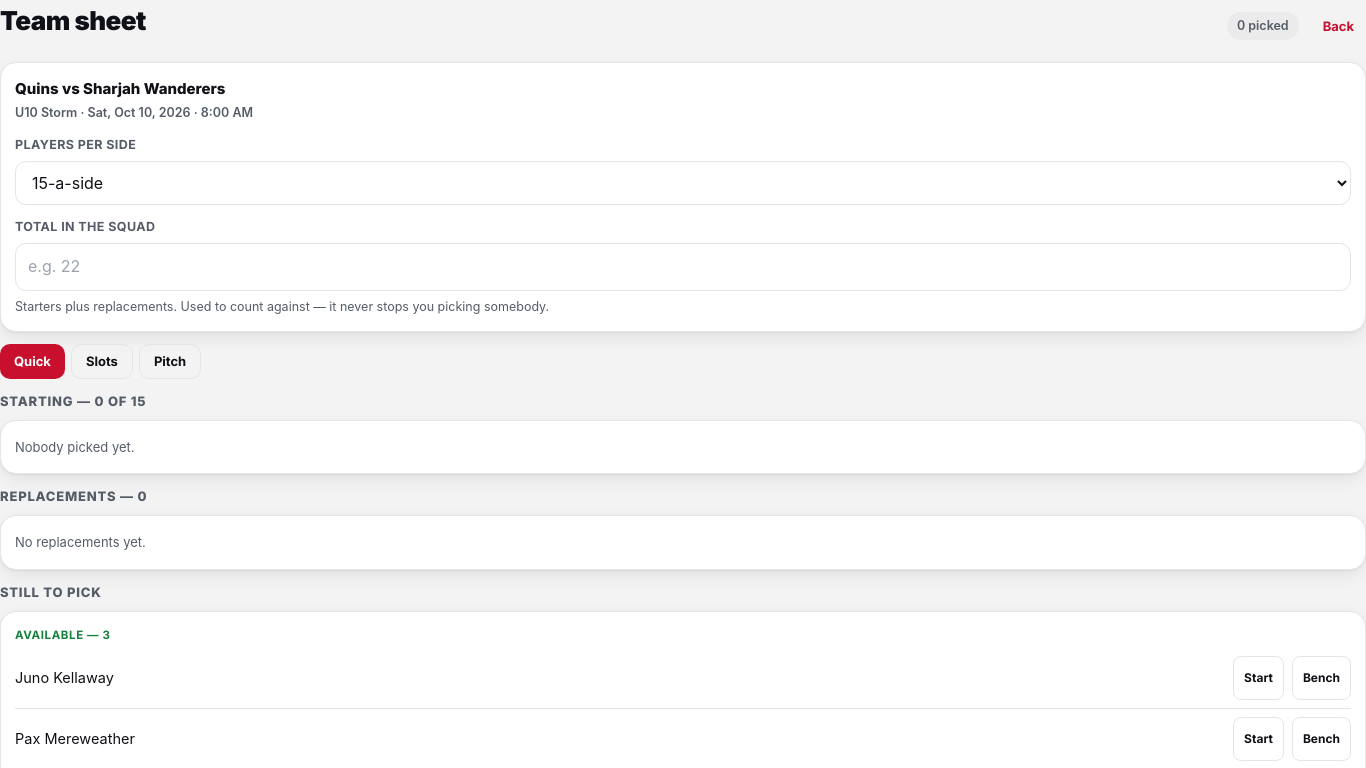
the sheet style (phase 2) › offers the toggle only when a format is chosen
This screenshot has width=1366, height=768.
Expected: the button "Quick" is shown, [0,344,65,379]
Select "Not set" in the dropdown labelled "Players per side". click: point(683, 183)
box: [15,161,1351,205]
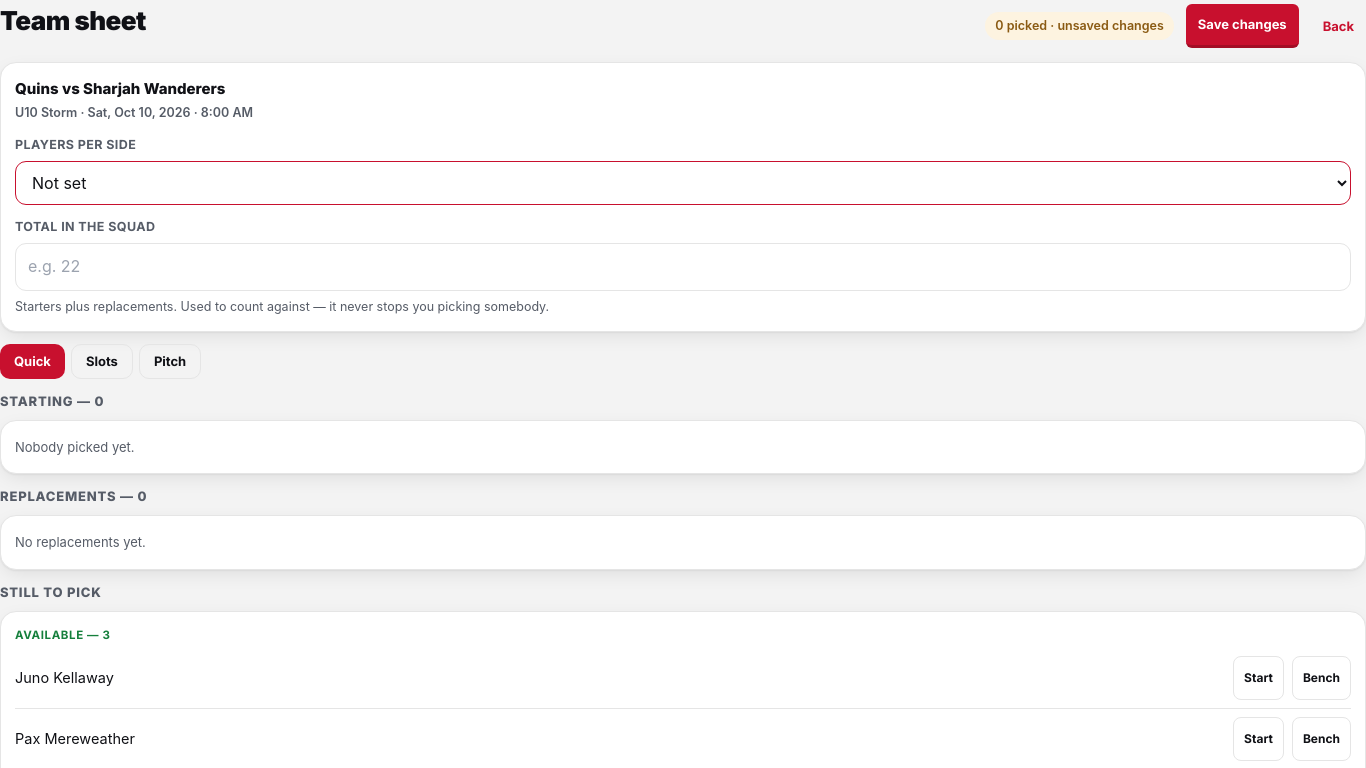
Select "7-a-side" in the dropdown labelled "Players per side". click: point(683, 183)
box: [15,161,1351,205]
(page scrolled)
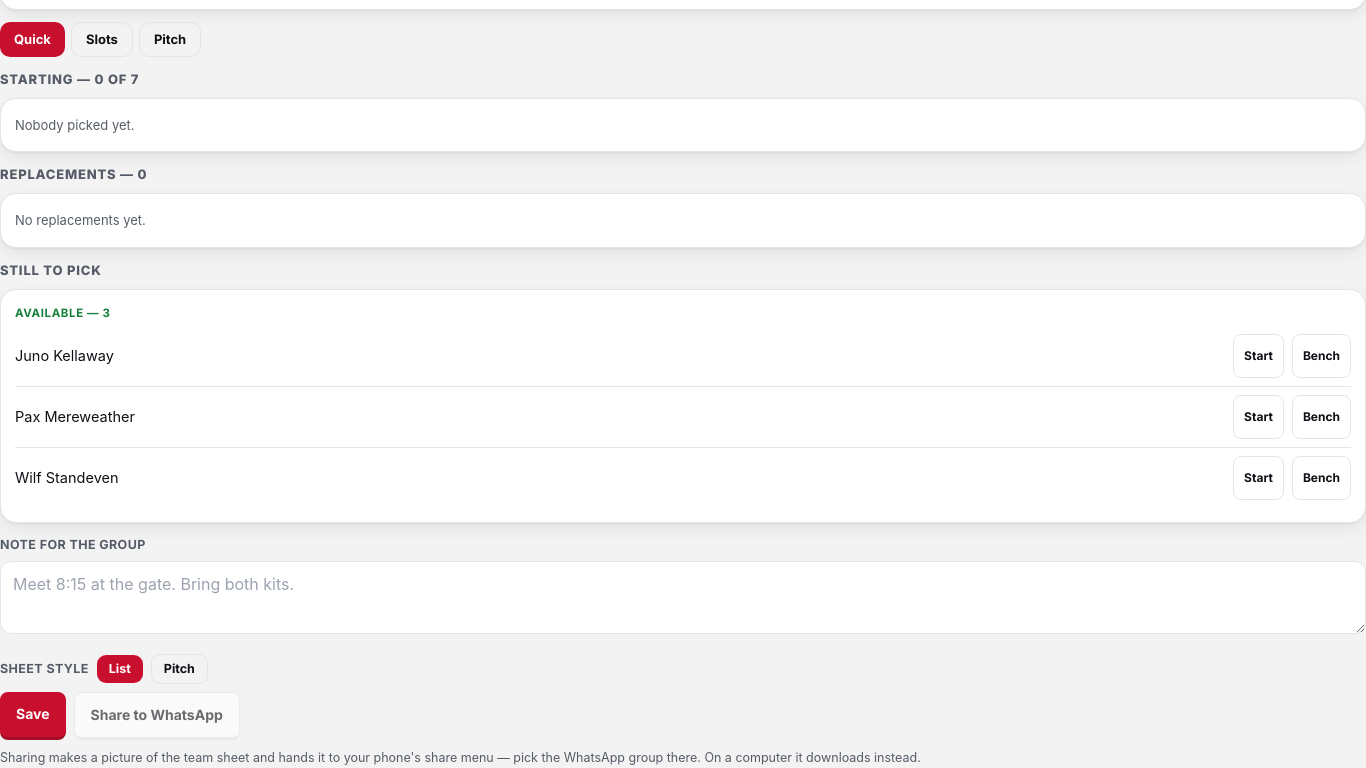
Expected: the element "Sheet style" is shown, [0,654,208,684]
